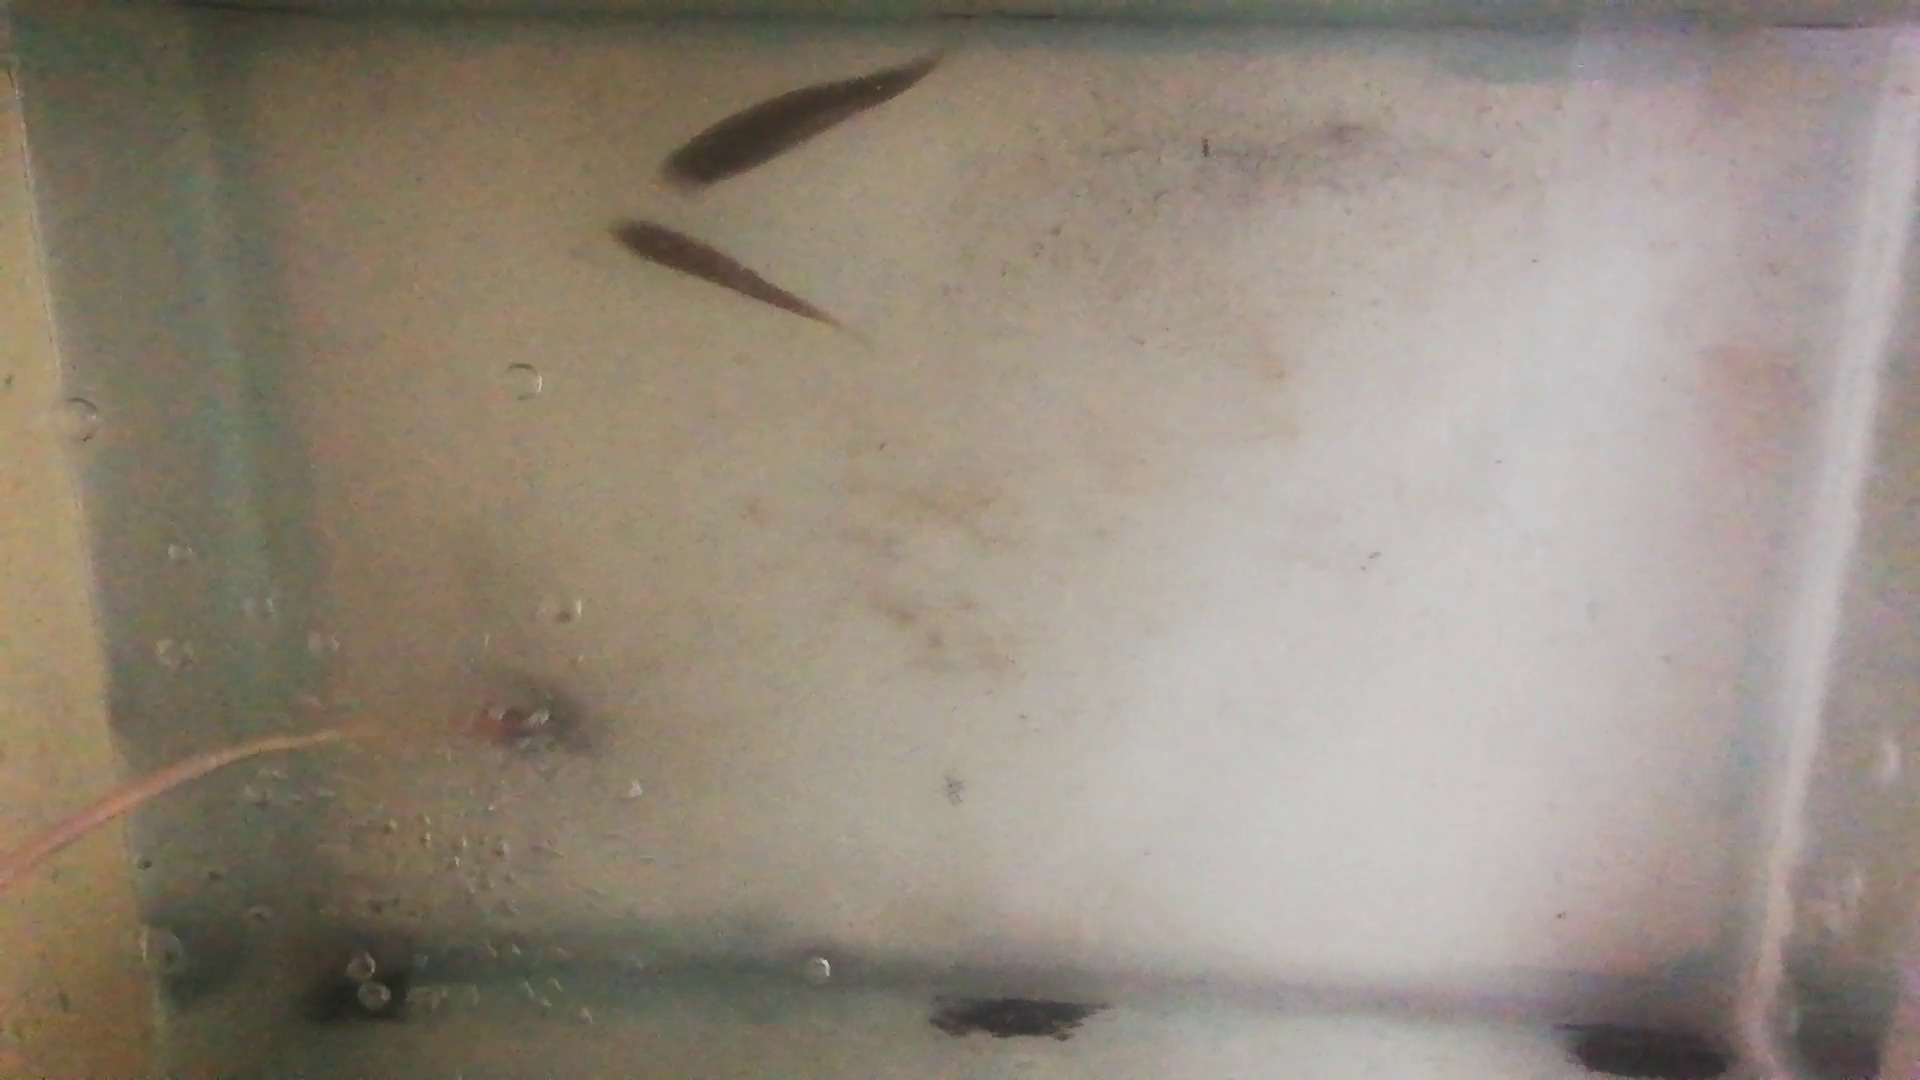fish: (662, 55, 939, 186), (609, 216, 837, 327)
